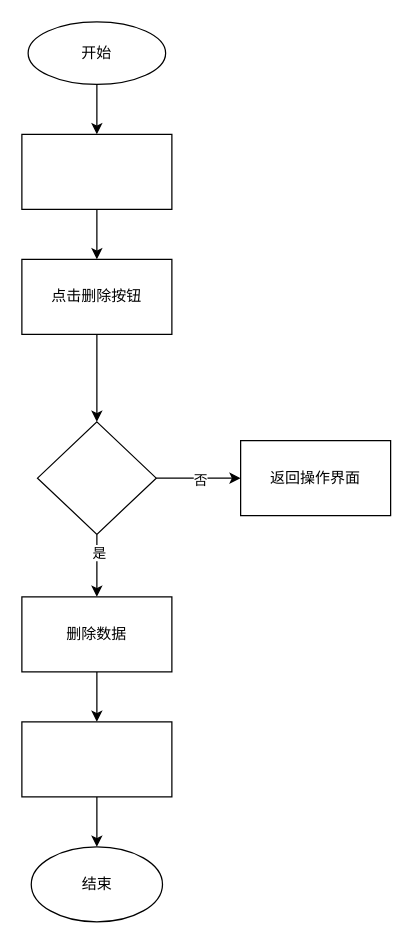
The diagram is 413 pixels wide and 944 high, and some of its shapes have lost their labels. Each missing label, with the centre of its shape:
"显示删除后的数据" belongs at point (96, 759).
"确认是否删除" belongs at point (96, 477).
"选择要删除的信息类型(餐桌/用户/菜品/订单)" belongs at point (96, 171).
